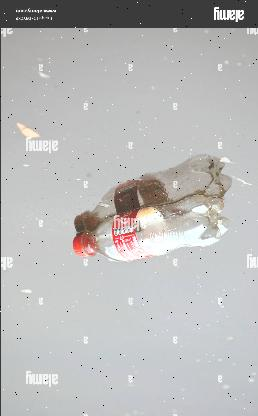Plastic Bottle: (34, 187, 237, 262)
